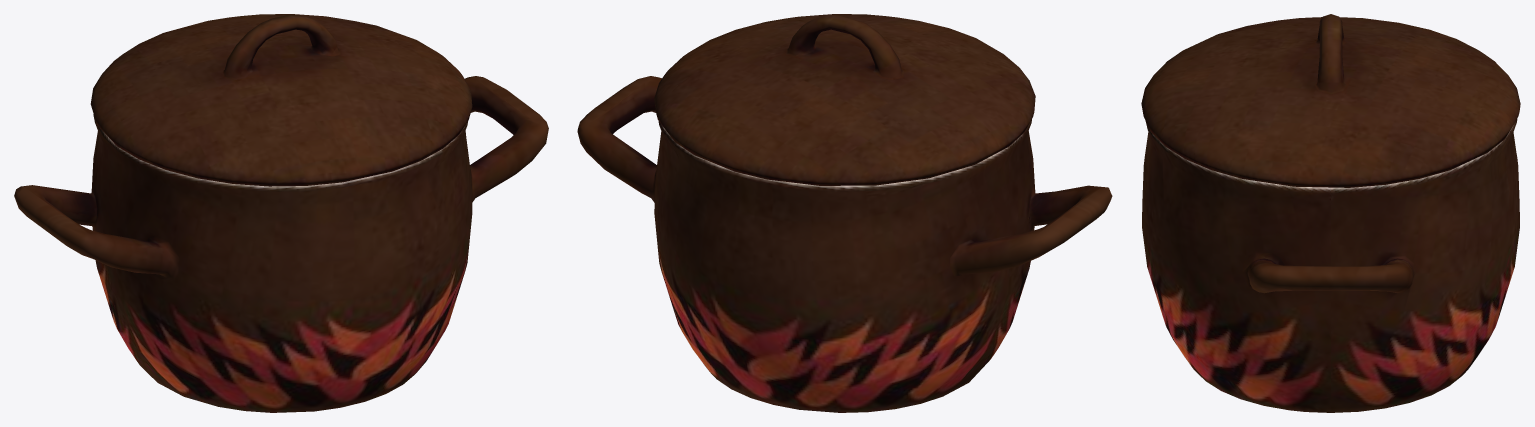
Rendered from pot.glb.
3 renders of one model, left to right at view 1: azimuth 30°, elevation 25°; view 2: azimuth 150°, elevation 25°; view 3: azimuth 270°, elevation 25°, orthographic.
Visible parts, largest first — view 1: pot_enamel_01_base, pot_enamel_01_lid; view 2: pot_enamel_01_base, pot_enamel_01_lid; view 3: pot_enamel_01_base, pot_enamel_01_lid.
Boxes of the visible parts, box(x1,y1,x2,y2) form: pot_enamel_01_base: box(14, 76, 548, 412); pot_enamel_01_lid: box(90, 14, 472, 186); pot_enamel_01_base: box(577, 76, 1112, 412); pot_enamel_01_lid: box(654, 14, 1035, 185); pot_enamel_01_base: box(1142, 119, 1519, 412); pot_enamel_01_lid: box(1141, 14, 1520, 187).
Size of the model in its own units: 0.2627 by 0.178 by 0.1805.
Materials: 1 (1 with a texture image).
